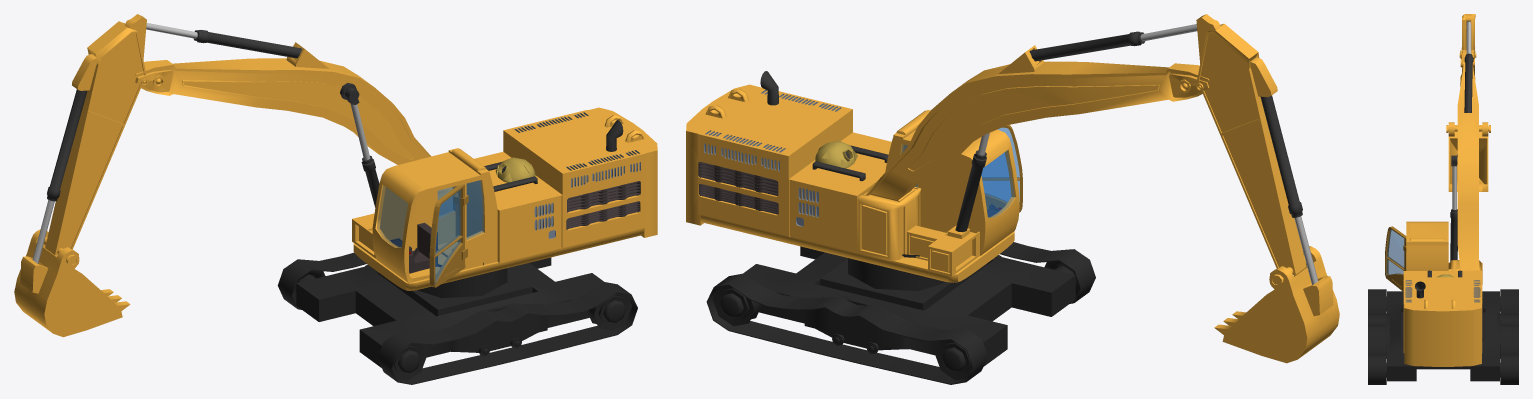
3 views of the same model, side by side, from view 1: azimuth 30°, elevation 25°; view 2: azimuth 150°, elevation 25°; view 3: azimuth 270°, elevation 25° (orthographic). The views are drawn at different scales.
Parts seen in each view (by area): view 1: engine, tracks, battery; view 2: engine, tracks, battery; view 3: engine, tracks.
Boxes of the visible parts, x1,y1,x2,y2 form: engine: [14, 14, 657, 337]; tracks: [277, 252, 637, 384]; battery: [495, 157, 535, 182]; engine: [686, 14, 1339, 363]; tracks: [706, 242, 1095, 384]; battery: [815, 141, 857, 168]; engine: [1385, 14, 1490, 366]; tracks: [1368, 289, 1518, 384].
Size of the model in its own units: 18.33 by 10.74 by 6.11.
